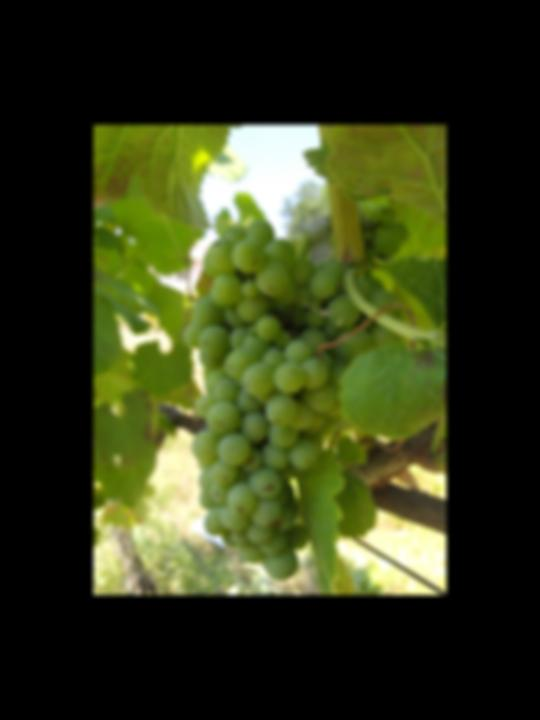grape: (178, 218, 400, 581)
